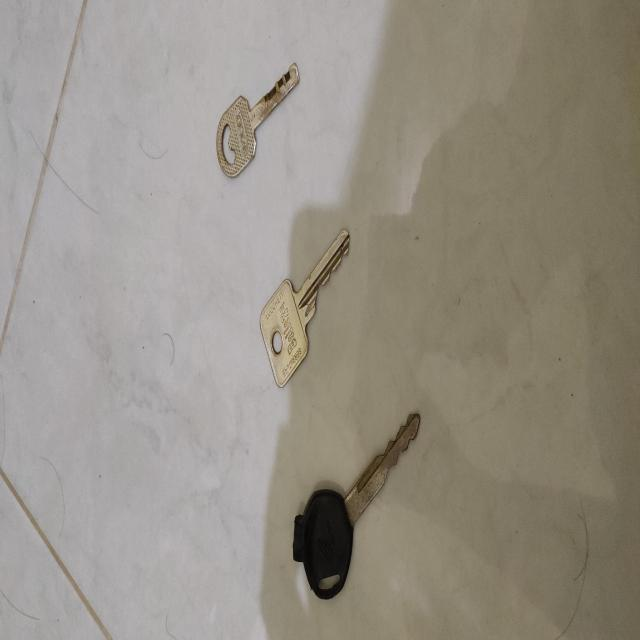kunci_kos: (254, 222, 352, 394)
kunci_motor: (289, 394, 428, 615)
kunci_pagar: (212, 60, 301, 188)
